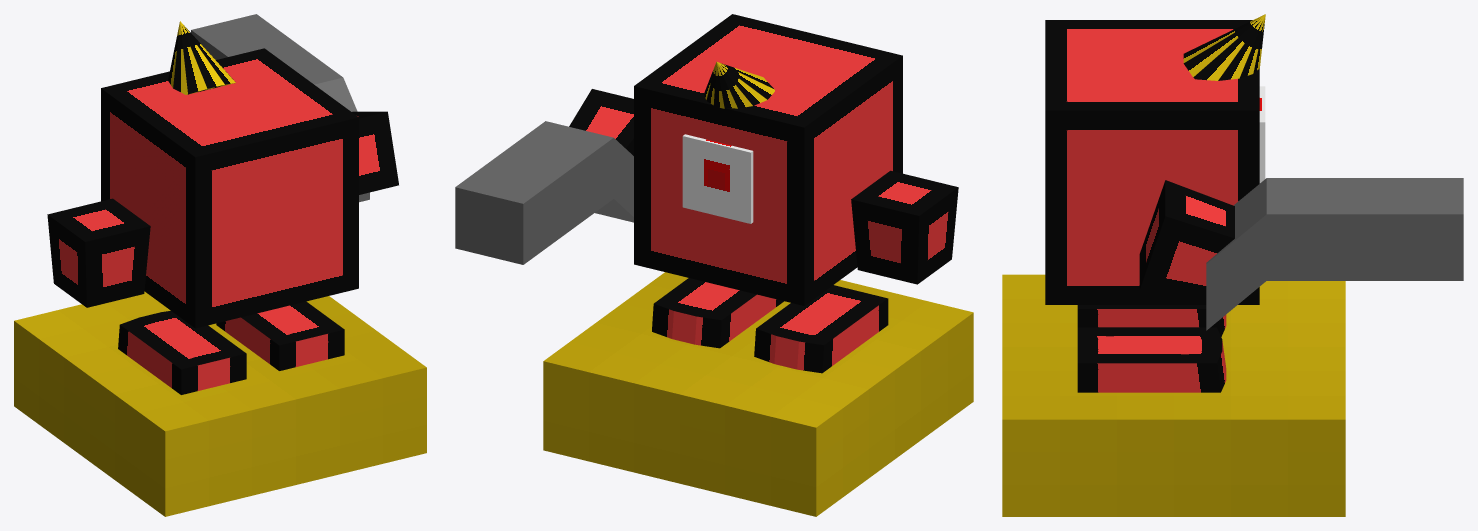
The model's file is akudo-fu.fbx.
3 views of the same model, side by side, from view 1: azimuth 30°, elevation 25°; view 2: azimuth 150°, elevation 25°; view 3: azimuth 270°, elevation 25° (orthographic). The views are drawn at different scales.
Visible parts, largest first — view 1: cuboid, cuboid_6, cuboid_4, cuboid_2, cuboid_1, cuboid_7, cuboid_3, cone; view 2: cuboid_6, cuboid, cuboid_7, cuboid_4, cuboid_2, cuboid_1, cuboid_5, cuboid_3, cone; view 3: cuboid_6, cuboid, cuboid_7, cuboid_1, cuboid_3, cone, cuboid_2, cuboid_5.
Part boxes in pixels (x1,y1,x2,y2): cuboid: (101, 48, 358, 328); cuboid_6: (14, 291, 426, 516); cuboid_4: (47, 198, 150, 307); cuboid_2: (118, 310, 246, 394); cuboid_1: (216, 301, 344, 370); cuboid_7: (191, 14, 369, 202); cuboid_3: (352, 111, 398, 194); cone: (168, 21, 235, 94); cuboid_6: (543, 272, 973, 516); cuboid: (634, 14, 902, 305); cuboid_7: (455, 121, 633, 264); cuboid_4: (851, 170, 958, 284); cuboid_2: (754, 285, 888, 373); cuboid_1: (652, 278, 783, 348); cuboid_5: (682, 134, 753, 223); cuboid_3: (569, 89, 633, 155); cone: (704, 61, 774, 108); cuboid_6: (1002, 274, 1345, 516); cuboid: (1045, 20, 1259, 304); cuboid_7: (1206, 178, 1463, 330); cuboid_1: (1077, 327, 1226, 392); cuboid_3: (1139, 180, 1234, 303); cone: (1183, 14, 1265, 80); cuboid_2: (1077, 305, 1226, 336); cuboid_5: (1259, 86, 1265, 183).
Size of the model in its own units: 125 by 138 by 134.
1 material, 1 textured.
